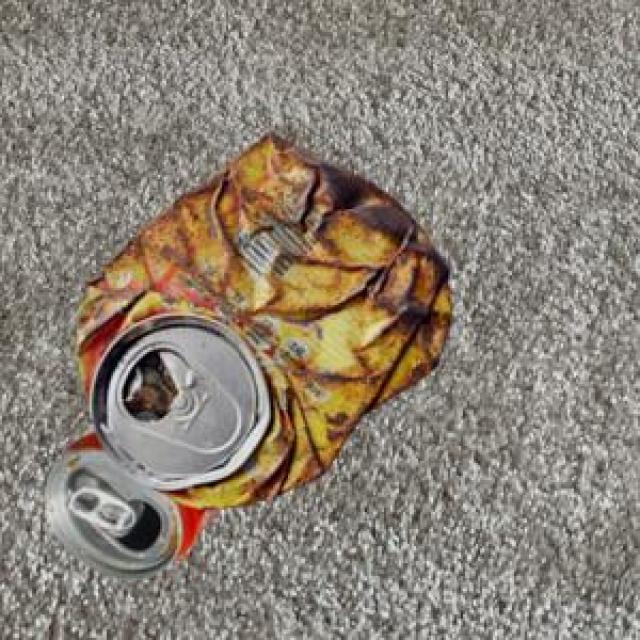logam: (74, 129, 447, 507), (42, 423, 217, 575)
